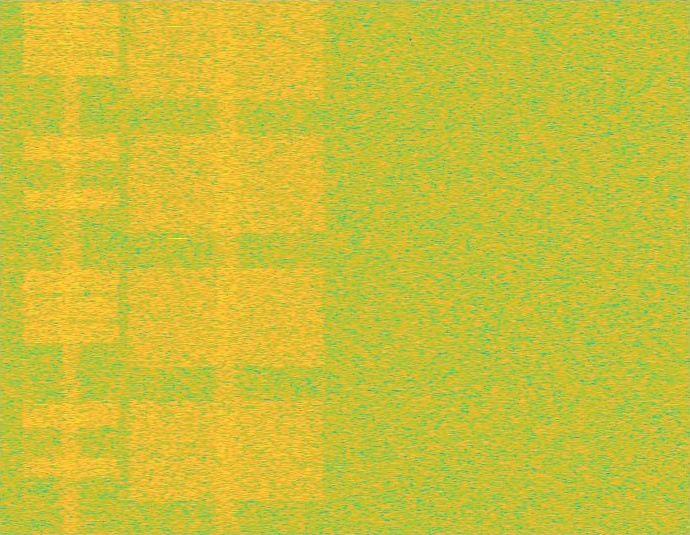5G: (123, 0, 330, 534)
DSSS: (213, 0, 241, 534), (59, 0, 83, 534)
LTE: (19, 0, 123, 534)
Radar: (172, 0, 185, 534)
